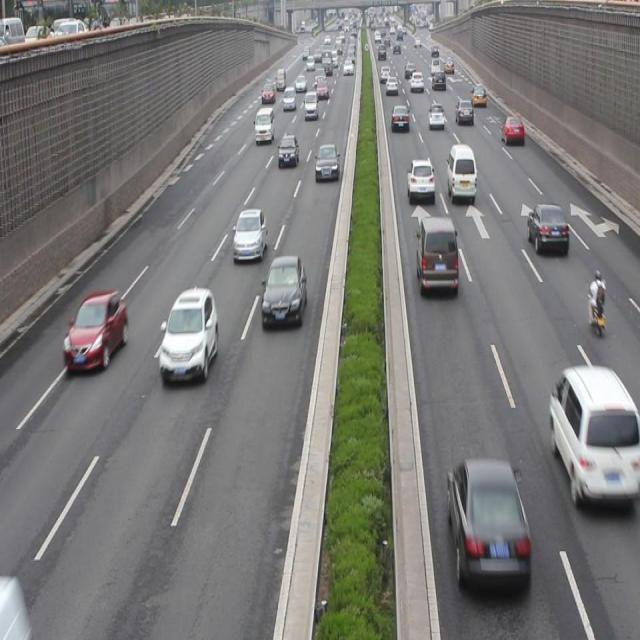car: (447, 459, 530, 590), (159, 288, 218, 383), (63, 290, 128, 373), (260, 256, 306, 324), (525, 200, 568, 255), (232, 209, 266, 262), (406, 158, 435, 201), (314, 142, 338, 180), (501, 114, 524, 148), (277, 134, 298, 166), (426, 102, 445, 130), (454, 97, 472, 125), (391, 105, 409, 132)
truck: (548, 364, 640, 504), (416, 216, 458, 294), (445, 143, 476, 203), (254, 107, 274, 143)
